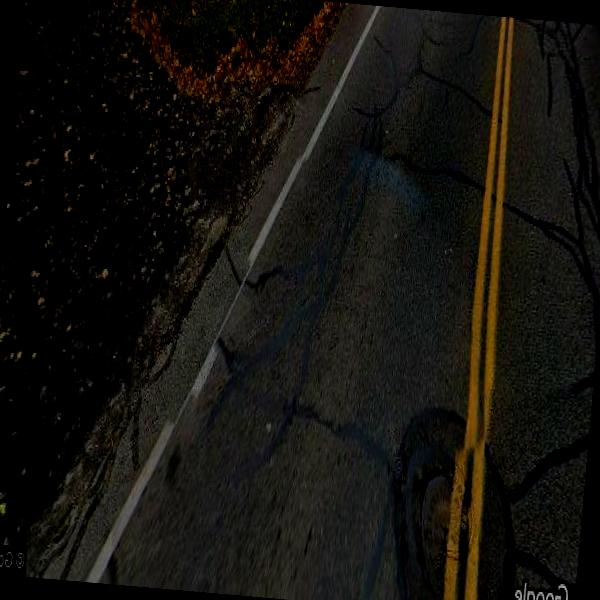manhole: (413, 462, 487, 600)
